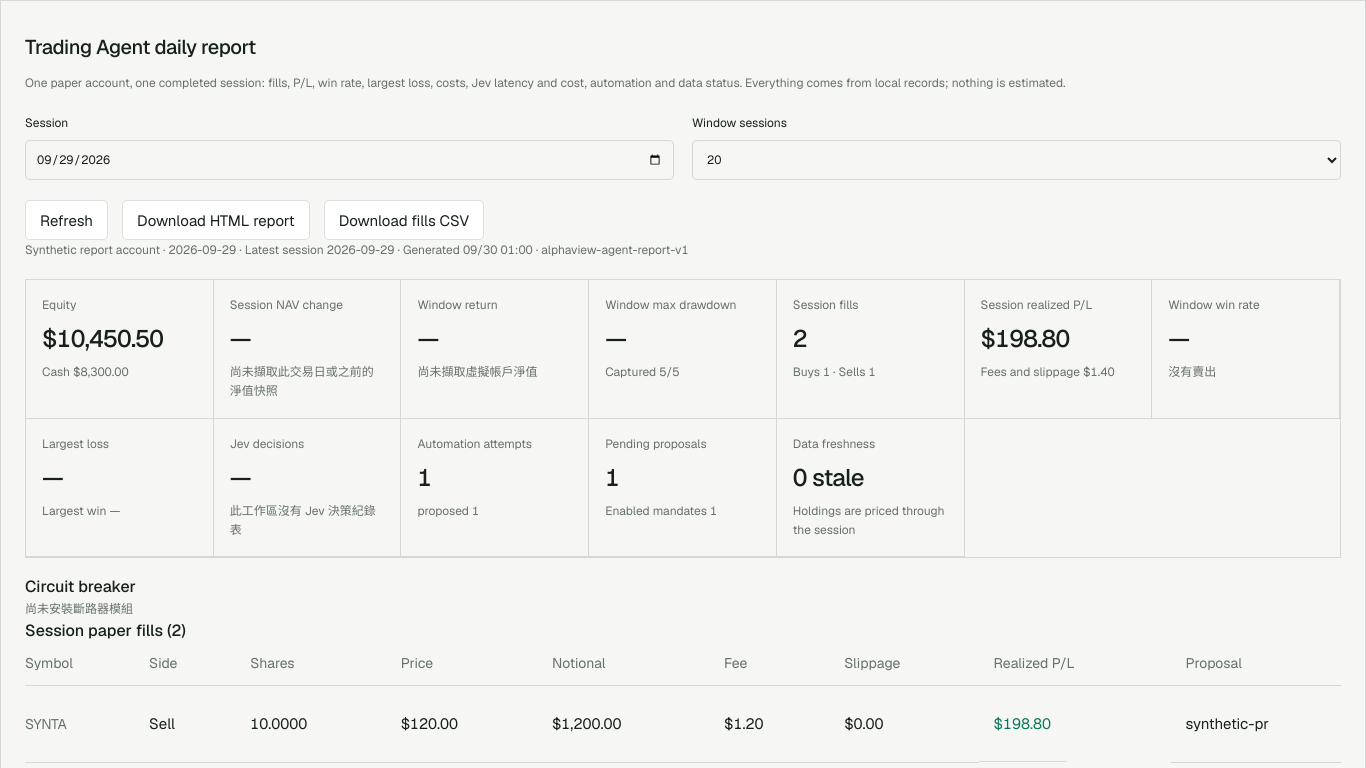
Test: Agent daily report › shows backend problems and keeps unavailable values as dashes
Expected: the text "尚未擷取此交易日或之前的淨值快照" is shown, [230, 363, 384, 402]
Expected: the text "此工作區沒有 Jev 決策紀錄表" is shown, [230, 502, 384, 540]
Type "2030-01-01" into the date field labelled "Session". click: (350, 160)
box: [25, 140, 674, 180]
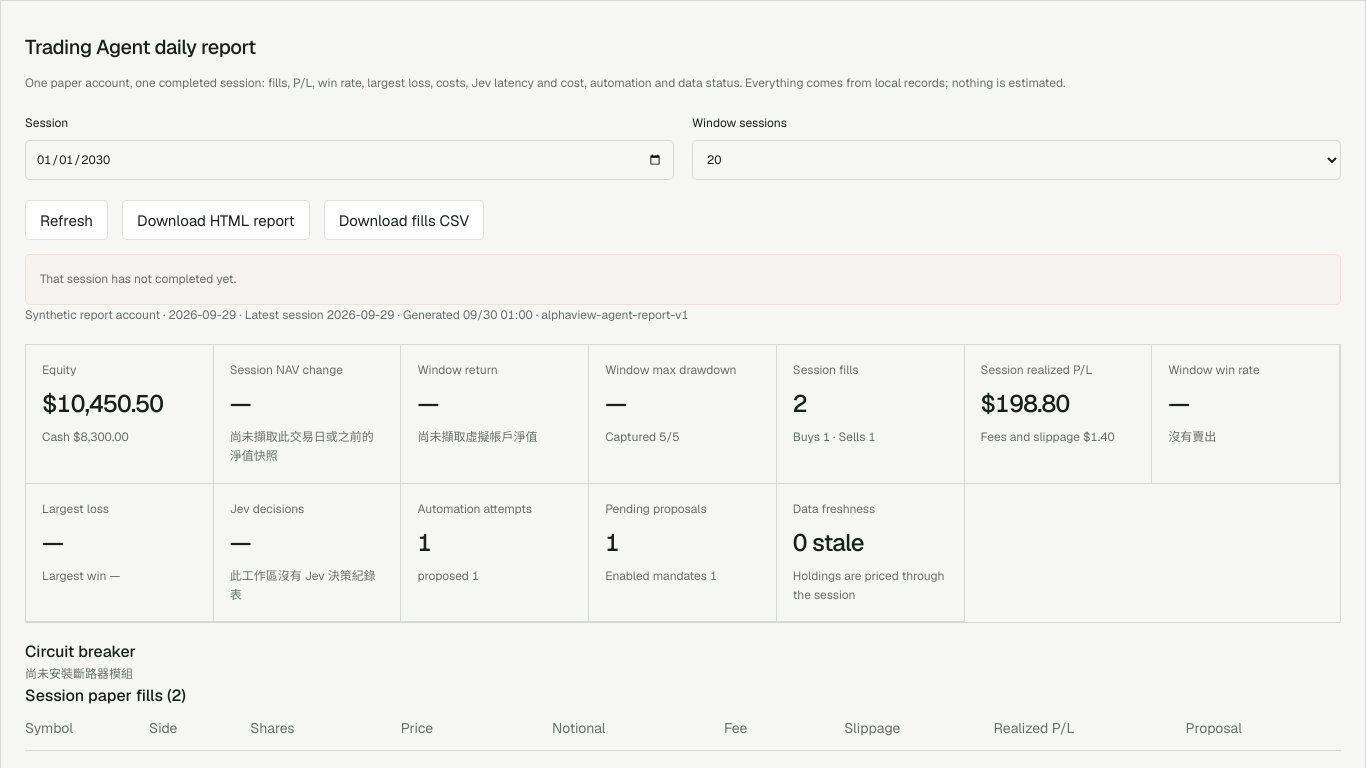
Now the text "That session has not completed yet." is shown, box [25, 254, 1341, 305]
